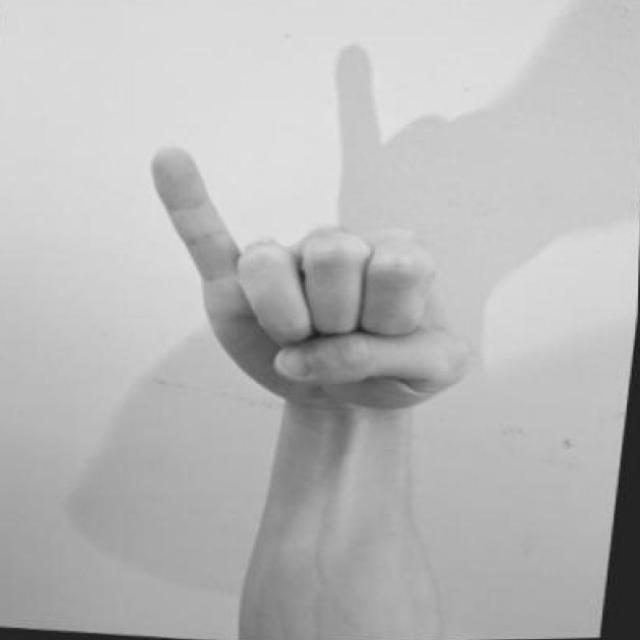I: (147, 137, 479, 441)
